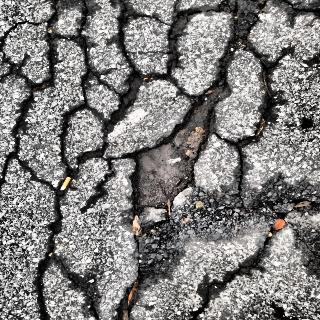alligator-crack: (0, 0, 143, 192)
crack: (158, 6, 195, 86), (250, 51, 278, 136), (216, 196, 320, 216), (224, 135, 251, 194), (34, 254, 56, 320), (46, 188, 66, 256), (192, 283, 216, 319)
pothole: (128, 123, 196, 214), (173, 83, 234, 148), (218, 0, 262, 50)
